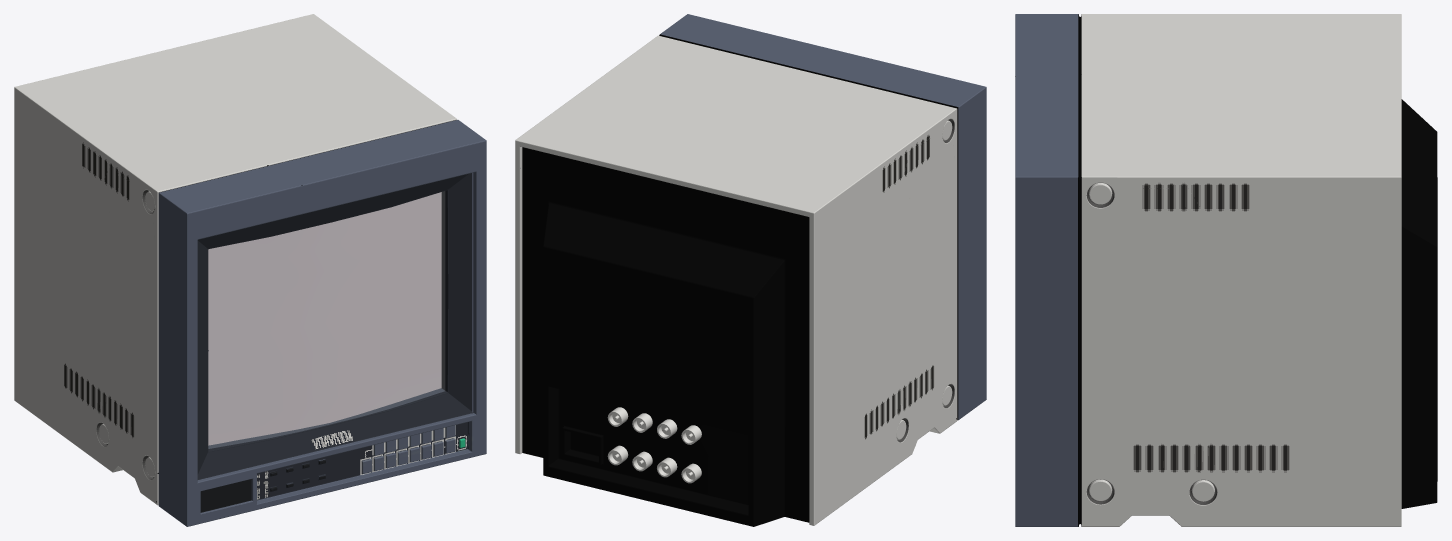
The model's file is CRTMonitor.glb.
3 views of the same model, side by side, from view 1: azimuth 30°, elevation 25°; view 2: azimuth 150°, elevation 25°; view 3: azimuth 270°, elevation 25° (orthographic). The views are drawn at different scales.
Visible parts, largest first — view 1: CRT, Dislpay; view 2: CRT; view 3: CRT.
Boxes of the visible parts, x1,y1,x2,y2 form: CRT: [14, 14, 486, 526]; Dislpay: [208, 192, 441, 445]; CRT: [515, 14, 986, 526]; CRT: [1015, 14, 1437, 526].
Bounding box in the file's own units: 1.22 × 1.22 × 1.33.
Materials: 4 (1 with a texture image).
